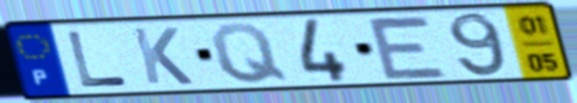4: (296, 16, 352, 85)
9: (443, 10, 509, 79)
E: (362, 15, 452, 82)
K: (128, 25, 197, 87)
L: (63, 29, 131, 89)
Q: (207, 21, 292, 86)
